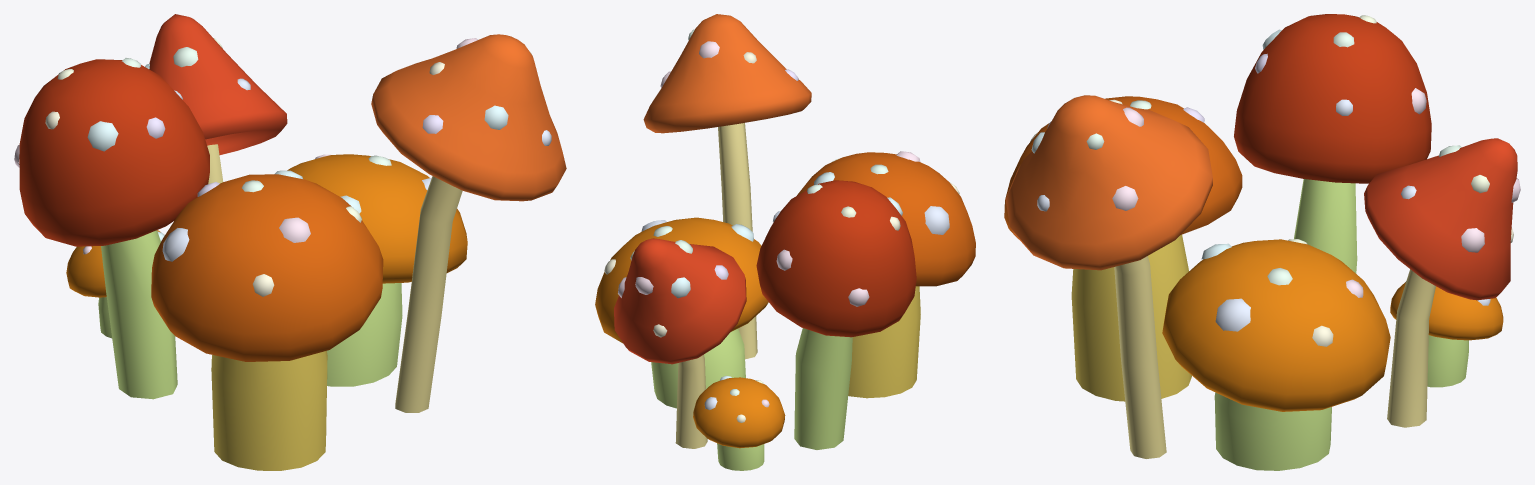
Rendered from L_food.glb.
The picture shows the model from 3 angles, left to right: view 1: azimuth 30°, elevation 25°; view 2: azimuth 150°, elevation 25°; view 3: azimuth 270°, elevation 25°; orthographic projection. The views are drawn at different scales.
Visible parts, largest first — view 1: Mushroom.005_0 Universal_0; view 2: Mushroom.005_0 Universal_0; view 3: Mushroom.005_0 Universal_0.
Boxes of the visible parts, x1=… form: Mushroom.005_0 Universal_0: x1=14, y1=14, x2=566, y2=470; Mushroom.005_0 Universal_0: x1=595, y1=14, x2=975, y2=470; Mushroom.005_0 Universal_0: x1=1004, y1=14, x2=1520, y2=470.
Size of the model in its own units: 0.3701 by 0.3211 by 0.3946.
Materials: 2 (2 with a texture image).
